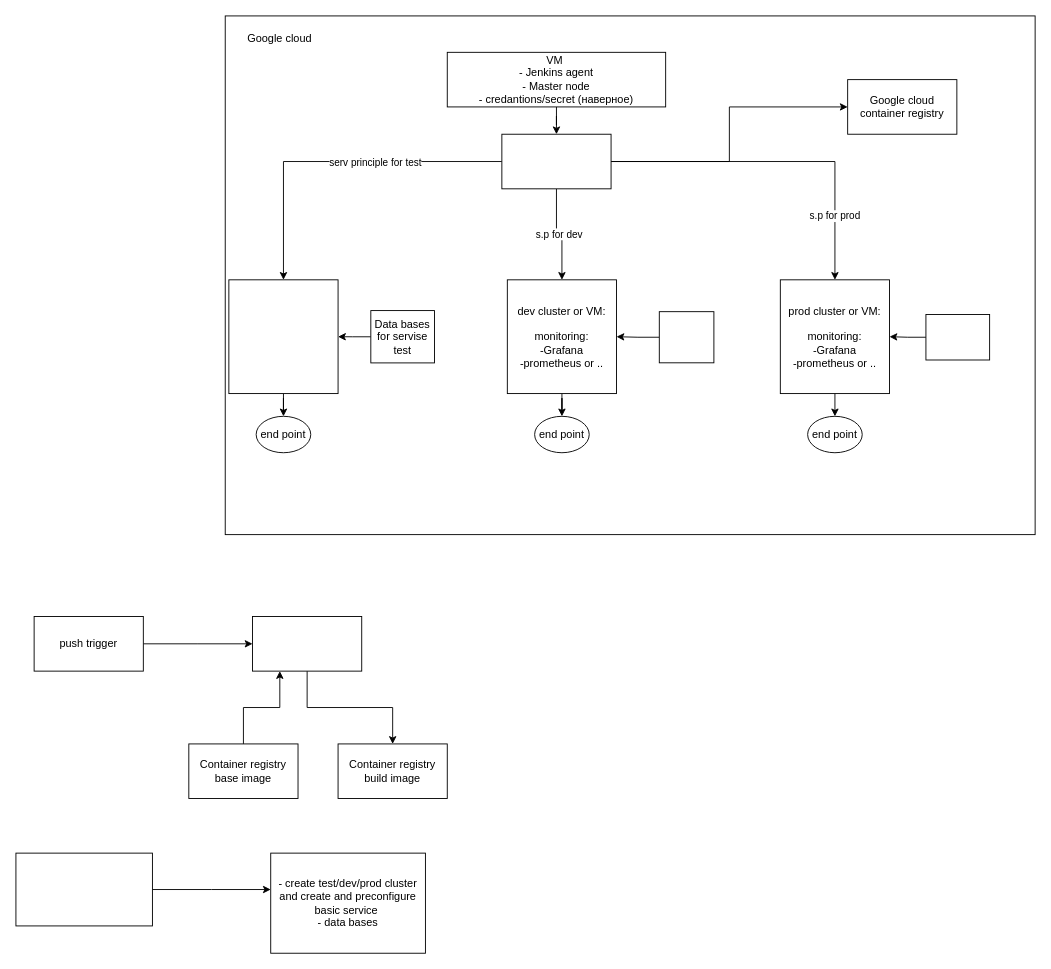
Image size: 1051x969. Some labels were removed from this diagram. The shapes that lost their labels are listed below. From the top down, each one's centre as x and y in pixels, then its label:
At (x=556, y=161): "VM jenkins agent: -Container for build".
At (x=283, y=336): "test cluster or VM: monitoring: -Grafana -prometheus or ...".
At (x=686, y=337): "Data bases for servise dev".
At (x=957, y=337): "Data bases for servise prod".
At (x=307, y=643): "ci pipline".
At (x=83, y=889): "infrastructure pipline with ansible to Deploy".
